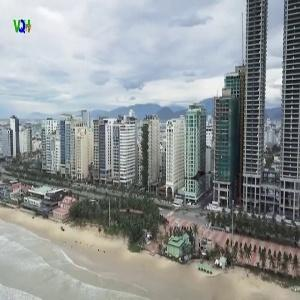drone: (182, 159, 219, 196)
